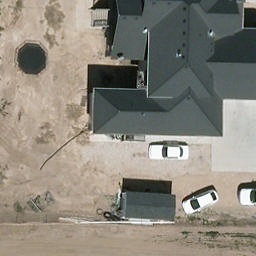car: (181, 187, 222, 216), (148, 144, 189, 160)
